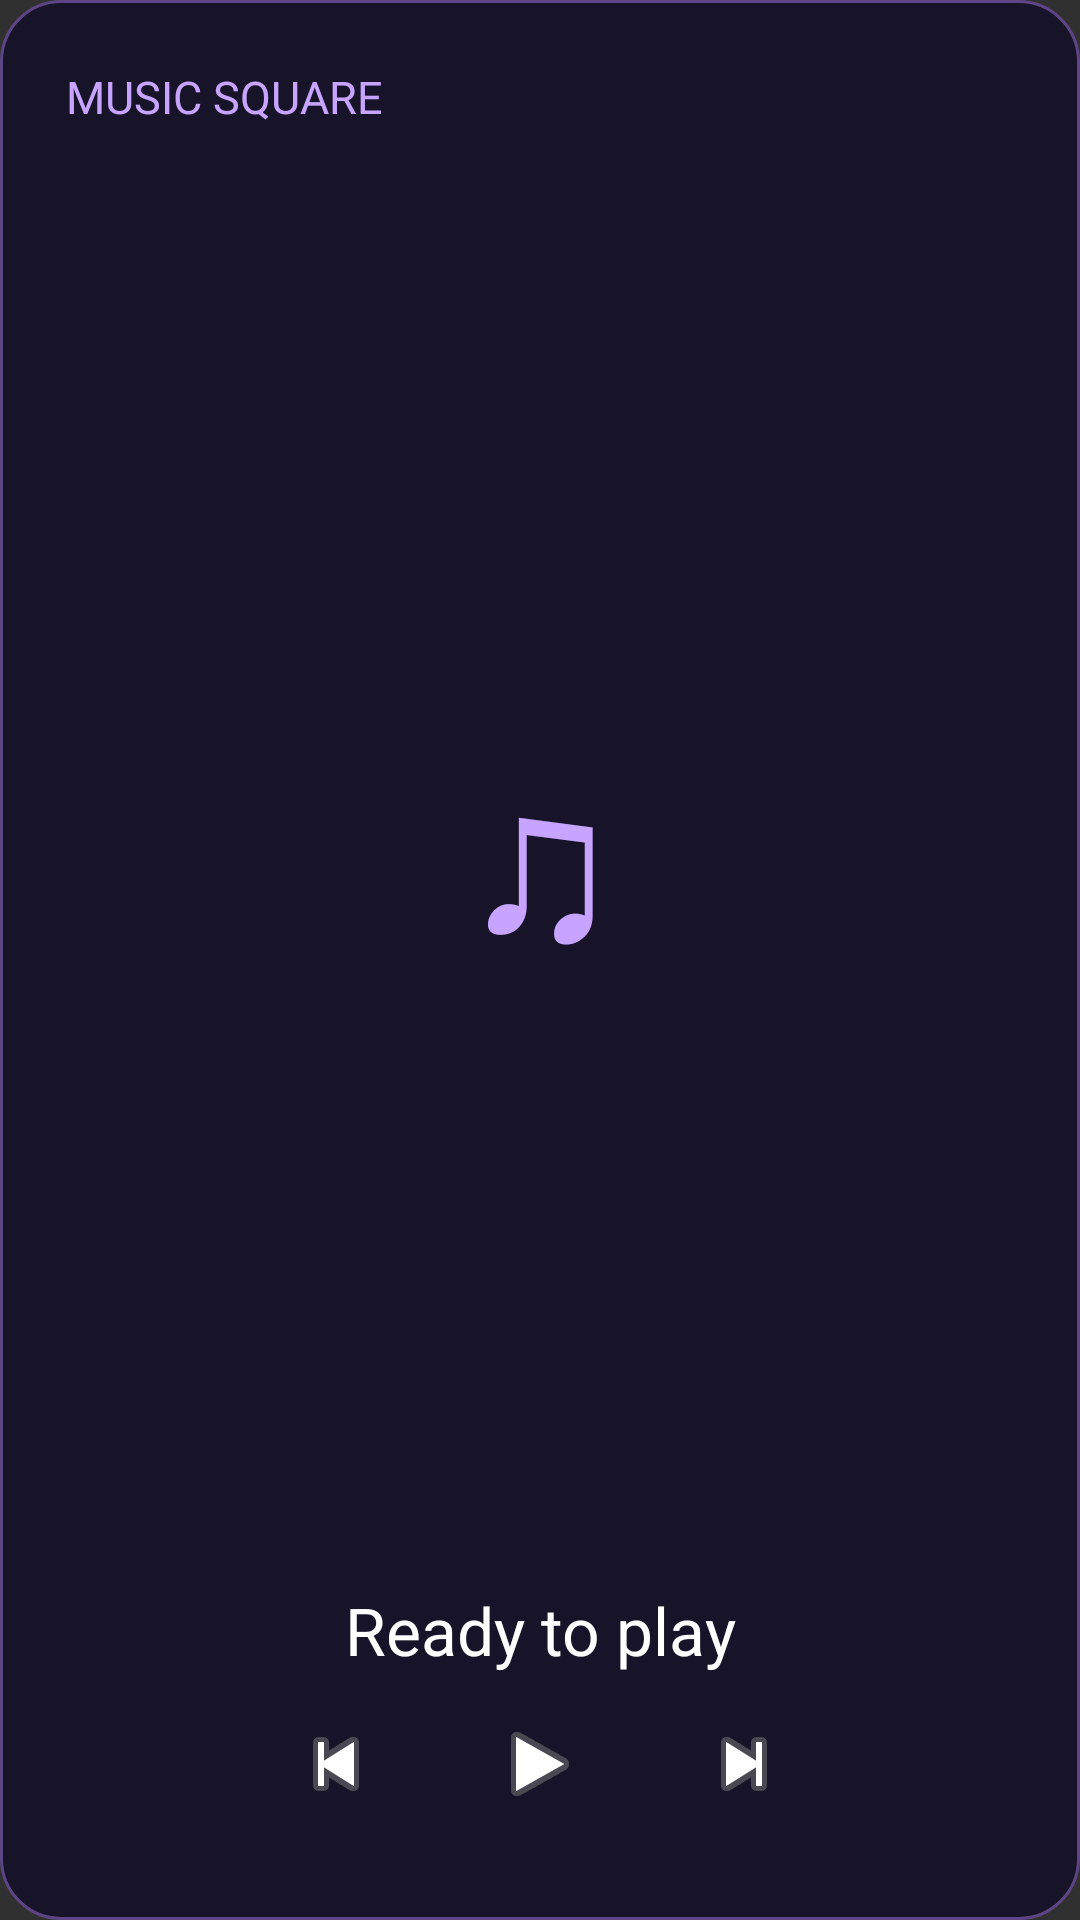

Icons on this 1080px x 1920px Android screen, each with the point to tap as point (x, y):
Next: point (744, 1764)
Play or pause: point (540, 1764)
Previous: point (336, 1764)
